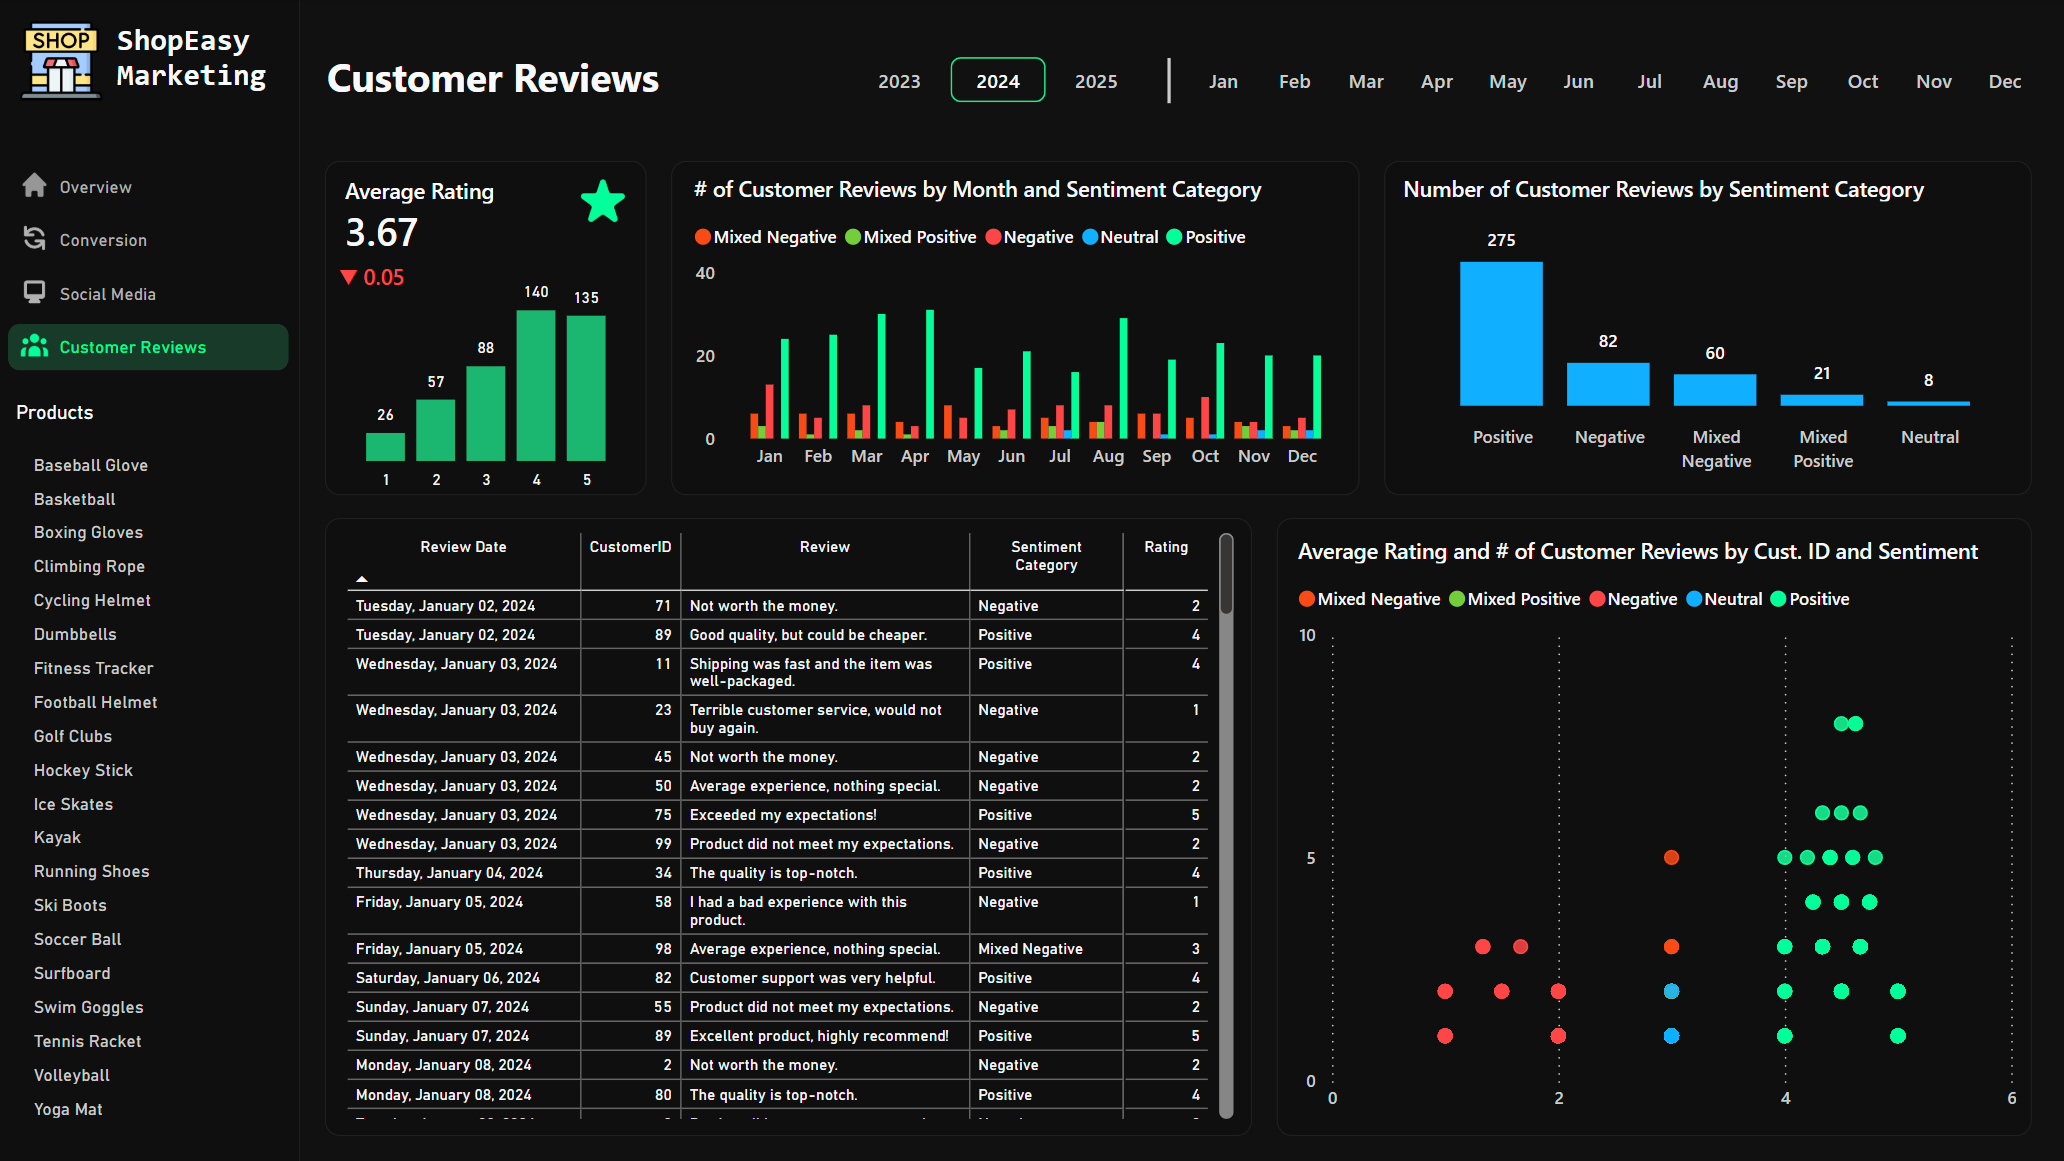

What the dashboard file says about the page in this screenshot:
{"tool":"powerbi","page":{"name":"Customer Reviews","canvas":[1280,720],"ordinal":3},"visuals":[{"type":"clusteredColumnChart","title":"# Customer Reviews by Rating","fields":{"Y":["_Calculations.Number of Customer Reviews"],"Category":["FACT_customer_reviews_with_sentiment.Rating"]},"box":[210.2,161.5,184.1,149.5],"z":0},{"type":"clusteredColumnChart","fields":{"Y":["_Calculations.Number of Customer Reviews"],"Category":["FACT_customer_reviews_with_sentiment.SentimentCategory"]},"box":[864.8,108.4,389.6,192.6],"z":1000},{"type":"clusteredColumnChart","title":"# of Customer Reviews by Month and Sentiment Category","fields":{"Category":["Calendar.MonthNameShort"],"Y":["_Calculations.Number of Customer Reviews"],"Series":["FACT_customer_reviews_with_sentiment.SentimentCategory"]},"box":[425.4,108.4,410.8,192.6],"z":2000},{"type":"tableEx","fields":{"Values":["FACT_customer_reviews_with_sentiment.ReviewDate","FACT_customer_reviews_with_sentiment.CustomerID","FACT_customer_reviews_with_sentiment.ReviewText","FACT_customer_reviews_with_sentiment.SentimentCategory","FACT_customer_reviews_with_sentiment.Rating"]},"box":[210.2,325.8,560,373.1],"z":3000},{"type":"scatterChart","title":"Average Rating and # of Customer Reviews by Cust. ID and Sentiment","fields":{"X":["_Calculations.Rating (Average)"],"Y":["_Calculations.Number of Customer Reviews"],"Category":["DIM_customers.CustomerID"],"Series":["FACT_customer_reviews_with_sentiment.SentimentCategory"]},"box":[799.7,332.9,454.9,366],"z":4000},{"type":"advancedSlicerVisual","fields":{"Values":["Calendar.Year"]},"box":[523.8,31.1,193.5,38.9],"z":6000},{"type":"advancedSlicerVisual","fields":{"Values":["Calendar.MonthNameShort"]},"box":[732.8,31.1,542.5,38.7],"z":7000},{"type":"shape","box":[694.7,36.7,60.8,28.3],"z":8000},{"type":"advancedSlicerVisual","fields":{"Values":["DIM_products.ProductName"]},"box":[15.2,273.6,157.5,439],"z":9000},{"type":"textbox","box":[5.7,241.3,174.3,31.7],"z":10000},{"type":"pageNavigator","box":[5.6,102,174.2,131],"z":11000},{"type":"cardVisual","fields":{"Data":["_Calculations.Rating (Average)"]},"box":[209.4,95,127.4,78.6],"z":12000},{"type":"cardVisual","fields":{"Data":["_Calculations.Diff Last Year Rating"]},"box":[205.9,143.2,126.9,48.7],"z":13000},{"type":"image","box":[7.8,7.1,60.7,62.8],"z":13001},{"type":"textbox","box":[68.1,9.5,112,57.8],"z":13002},{"type":"textbox","box":[198.4,26.4,299.5,47.6],"z":13003}]}

Visuals, with their boxes on the page's 1280x720 design canvas (x1, y1, x2, y2). These are canvas units, not pixel positions in the 2064x1161 screenshot, which may show the page scaled, cropped or inside an application window:
"# Customer Reviews by Rating" clusteredColumnChart: 210 162 394 311
clusteredColumnChart - _Calculations.Number of Customer Reviews x FACT_customer_reviews_with_sentiment.SentimentCategory: 865 108 1254 301
"# of Customer Reviews by Month and Sentiment Category" clusteredColumnChart: 425 108 836 301
tableEx - FACT_customer_reviews_with_sentiment.ReviewDate x FACT_customer_reviews_with_sentiment.CustomerID: 210 326 770 699
"Average Rating and # of Customer Reviews by Cust. ID and Sentiment" scatterChart: 800 333 1255 699
advancedSlicerVisual - Calendar.Year: 524 31 717 70
advancedSlicerVisual - Calendar.MonthNameShort: 733 31 1275 70
shape: 695 37 756 65
advancedSlicerVisual - DIM_products.ProductName: 15 274 173 713
textbox: 6 241 180 273
pageNavigator: 6 102 180 233
cardVisual - _Calculations.Rating (Average): 209 95 337 174
cardVisual - _Calculations.Diff Last Year Rating: 206 143 333 192
image: 8 7 68 70
textbox: 68 10 180 67
textbox: 198 26 498 74
